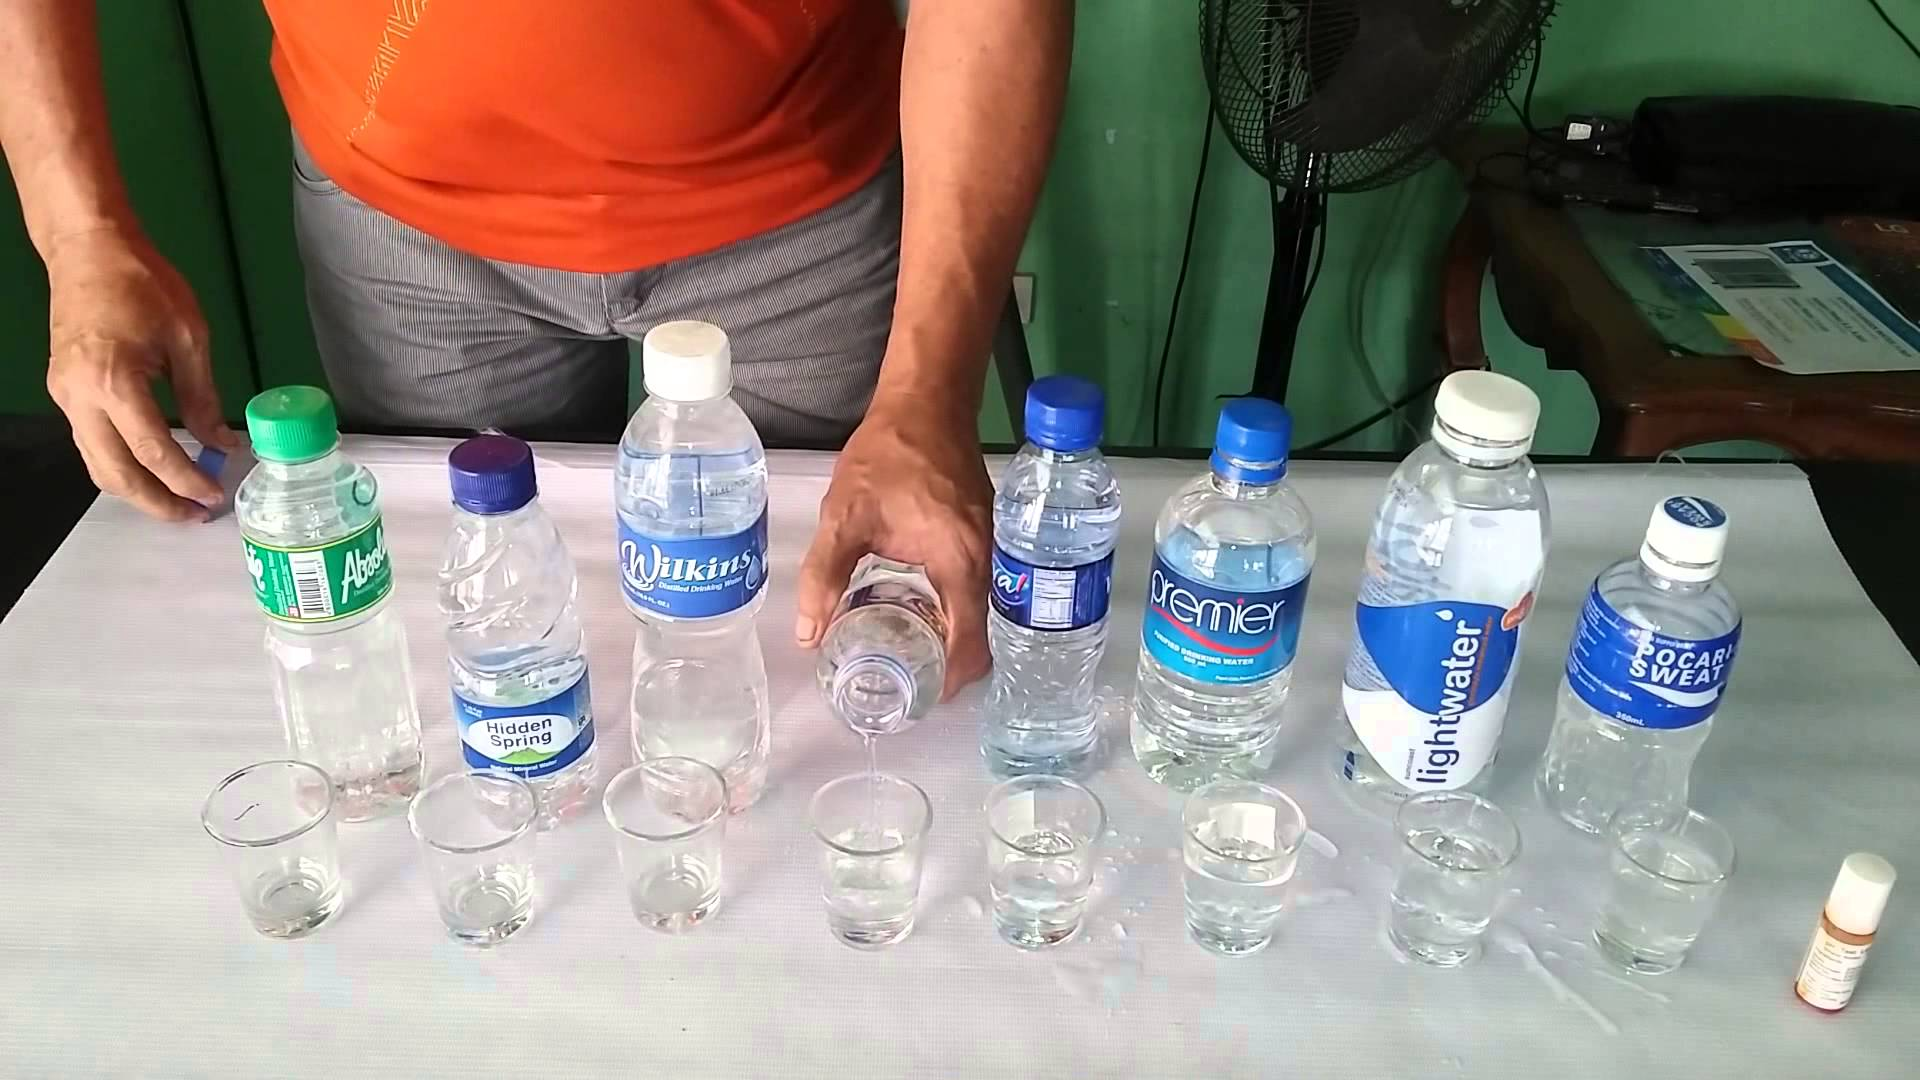cup: (164, 744, 357, 949), (1576, 800, 1755, 996), (1156, 767, 1317, 969), (601, 754, 752, 963), (793, 771, 949, 969), (969, 767, 1118, 973), (392, 771, 551, 948), (1377, 786, 1519, 977)
plastic_bottle: (1342, 363, 1561, 774), (214, 368, 433, 736), (609, 313, 785, 741), (1564, 460, 1778, 793), (1153, 396, 1333, 746), (978, 373, 1127, 767), (435, 427, 593, 752), (811, 578, 961, 758)
